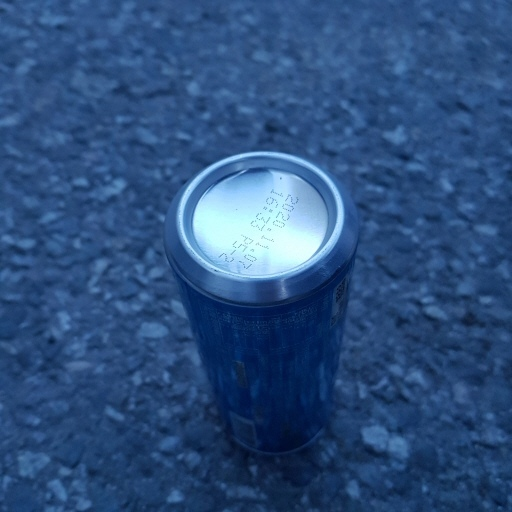Metal_0: (161, 149, 365, 457)
